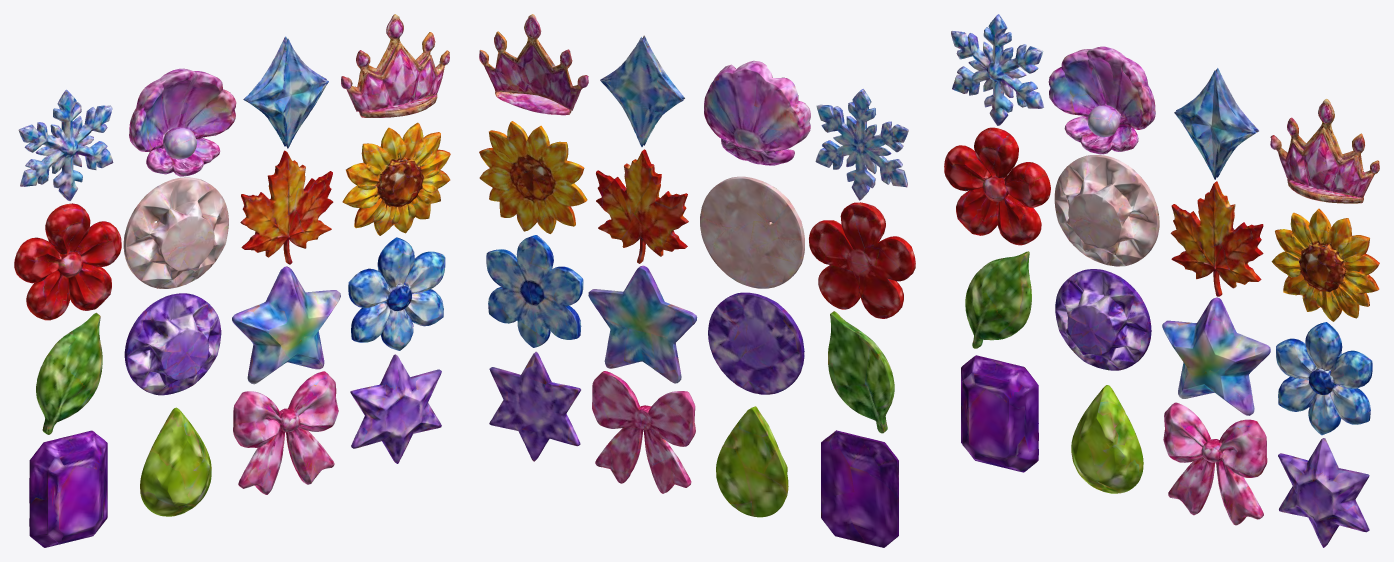
The picture shows the model from 3 angles, left to right: view 1: azimuth 30°, elevation 25°; view 2: azimuth 150°, elevation 25°; view 3: azimuth 330°, elevation 25°; orthographic projection.
Visible parts, largest first — view 1: Mesh 5, Mesh 1, Mesh 7, Mesh 10, Mesh 14, Mesh 3, Mesh 6, Mesh 15, Mesh 9, Mesh 11, Mesh 13, Mesh 2 (+4 smaller); view 2: Mesh 5, Mesh 1, Mesh 7, Mesh 14, Mesh 10, Mesh 3, Mesh 6, Mesh 15, Mesh 9, Mesh 11, Mesh 8, Mesh 13 (+4 smaller); view 3: Mesh 5, Mesh 7, Mesh 1, Mesh 10, Mesh 14, Mesh 3, Mesh 6, Mesh 15, Mesh 9, Mesh 11, Mesh 13, Mesh 16 (+4 smaller).
Part boxes in pixels (x1=…): Mesh 5: x1=123, y1=177, x2=228, y2=288; Mesh 1: x1=14, y1=203, x2=121, y2=320; Mesh 7: x1=129, y1=68, x2=236, y2=176; Mesh 10: x1=233, y1=371, x2=338, y2=494; Mesh 14: x1=342, y1=122, x2=450, y2=235; Mesh 3: x1=29, y1=430, x2=107, y2=547; Mesh 6: x1=124, y1=293, x2=221, y2=395; Mesh 15: x1=348, y1=237, x2=445, y2=350; Mesh 9: x1=232, y1=266, x2=340, y2=384; Mesh 11: x1=240, y1=150, x2=333, y2=264; Mesh 13: x1=341, y1=14, x2=449, y2=117; Mesh 2: x1=18, y1=89, x2=113, y2=200; Mesh 5: x1=700, y1=176, x2=804, y2=288; Mesh 1: x1=809, y1=202, x2=915, y2=318; Mesh 7: x1=704, y1=60, x2=810, y2=165; Mesh 14: x1=479, y1=121, x2=587, y2=233; Mesh 10: x1=592, y1=371, x2=695, y2=493; Mesh 3: x1=821, y1=430, x2=898, y2=547; Mesh 6: x1=708, y1=292, x2=804, y2=394; Mesh 15: x1=486, y1=235, x2=583, y2=347; Mesh 9: x1=588, y1=265, x2=697, y2=383; Mesh 11: x1=596, y1=149, x2=688, y2=263; Mesh 8: x1=716, y1=406, x2=788, y2=517; Mesh 13: x1=479, y1=14, x2=588, y2=115; Mesh 5: x1=1054, y1=155, x2=1159, y2=266; Mesh 7: x1=1048, y1=46, x2=1155, y2=154; Mesh 1: x1=944, y1=127, x2=1050, y2=245; Mesh 10: x1=1163, y1=402, x2=1267, y2=525; Mesh 14: x1=1271, y1=208, x2=1379, y2=321; Mesh 3: x1=961, y1=355, x2=1038, y2=472; Mesh 6: x1=1055, y1=269, x2=1151, y2=370; Mesh 15: x1=1276, y1=322, x2=1372, y2=435; Mesh 9: x1=1162, y1=297, x2=1270, y2=415; Mesh 11: x1=1170, y1=181, x2=1263, y2=296; Mesh 13: x1=1270, y1=99, x2=1379, y2=203; Mesh 16: x1=1278, y1=438, x2=1369, y2=547.
Bounding box in the file's own units: 1.9 × 1.89 × 0.1593.
Materials: 16 (16 with a texture image).
